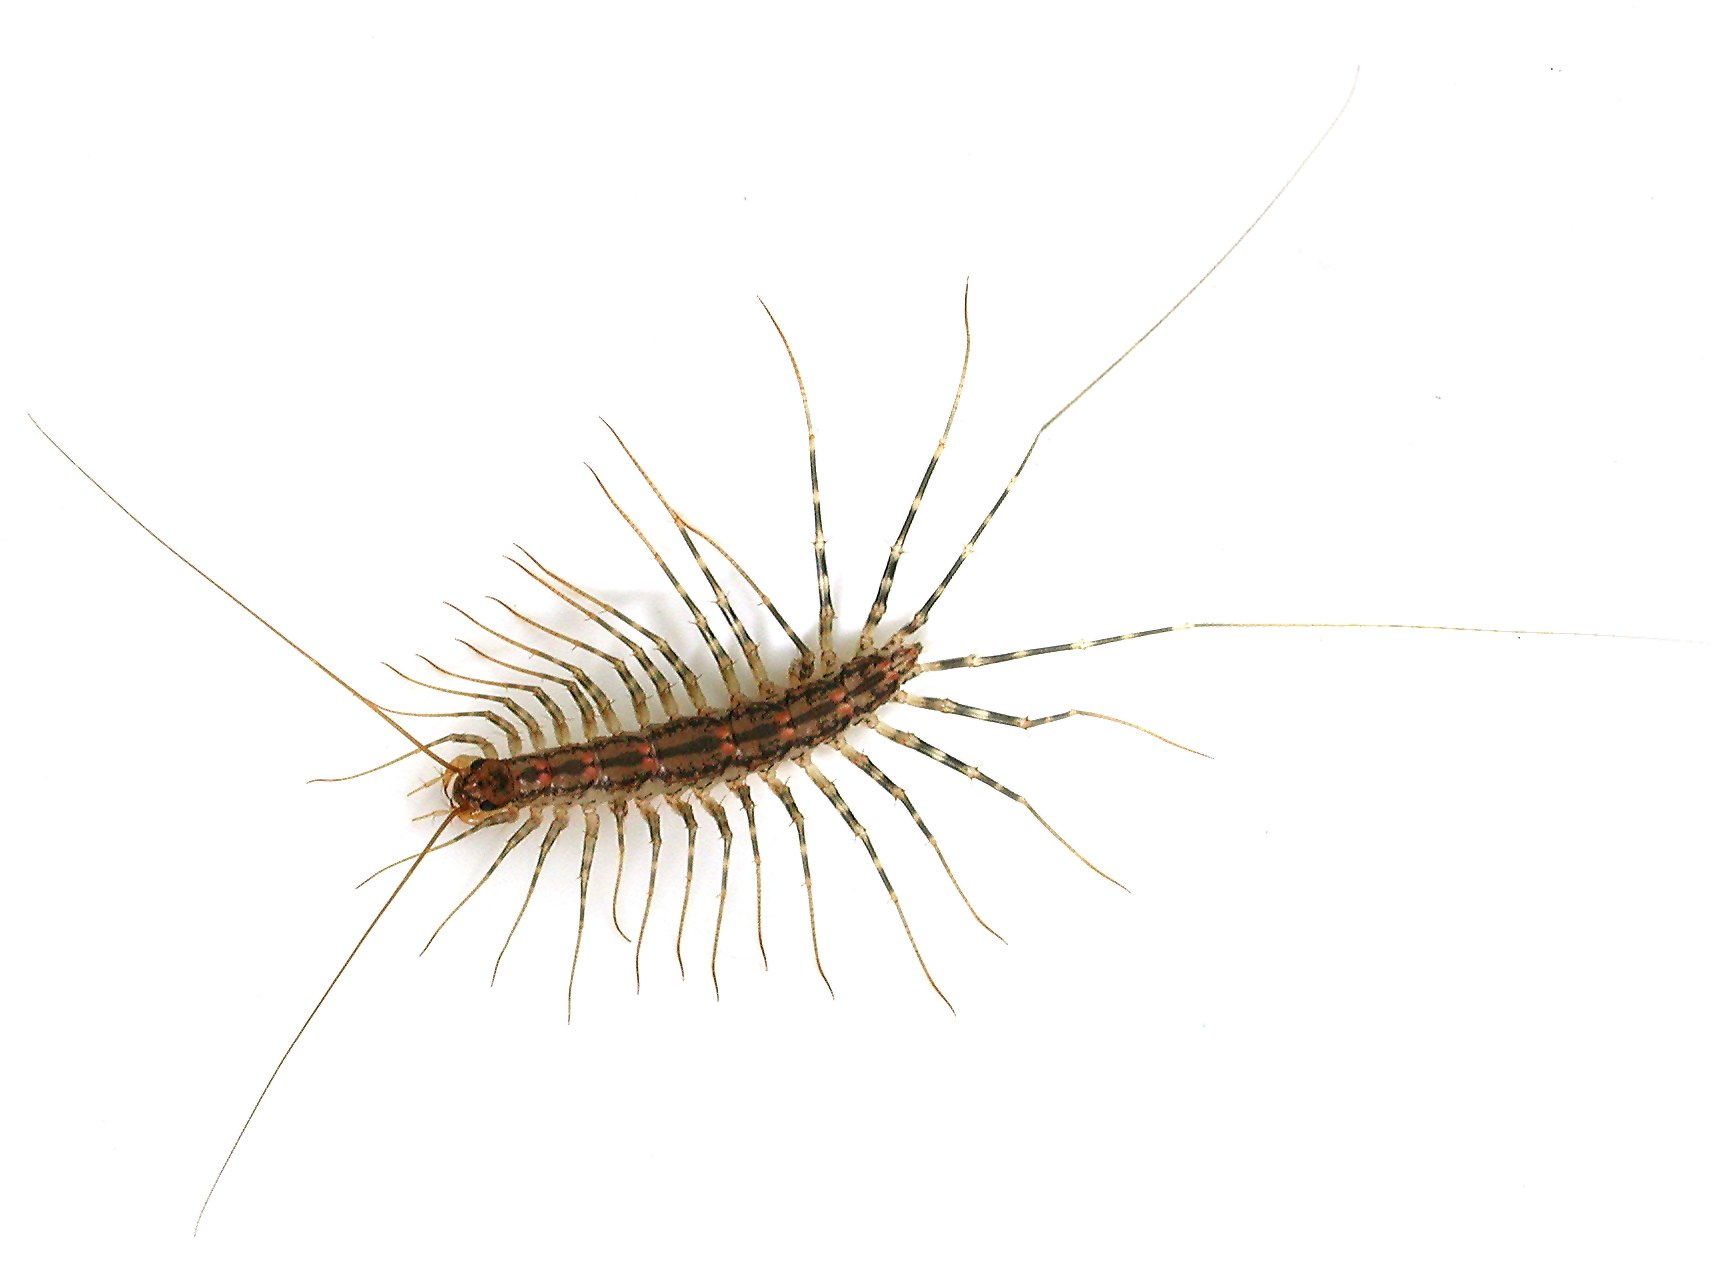centipede: (269, 284, 1210, 1010)
